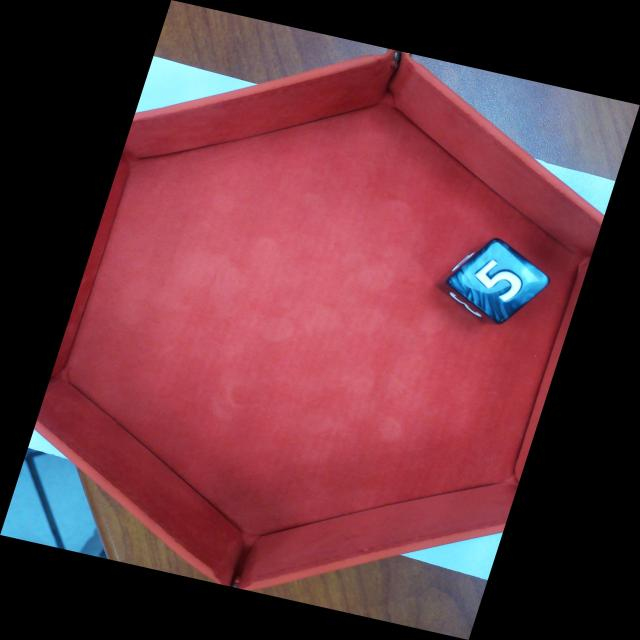dice: (447, 238, 550, 324)
